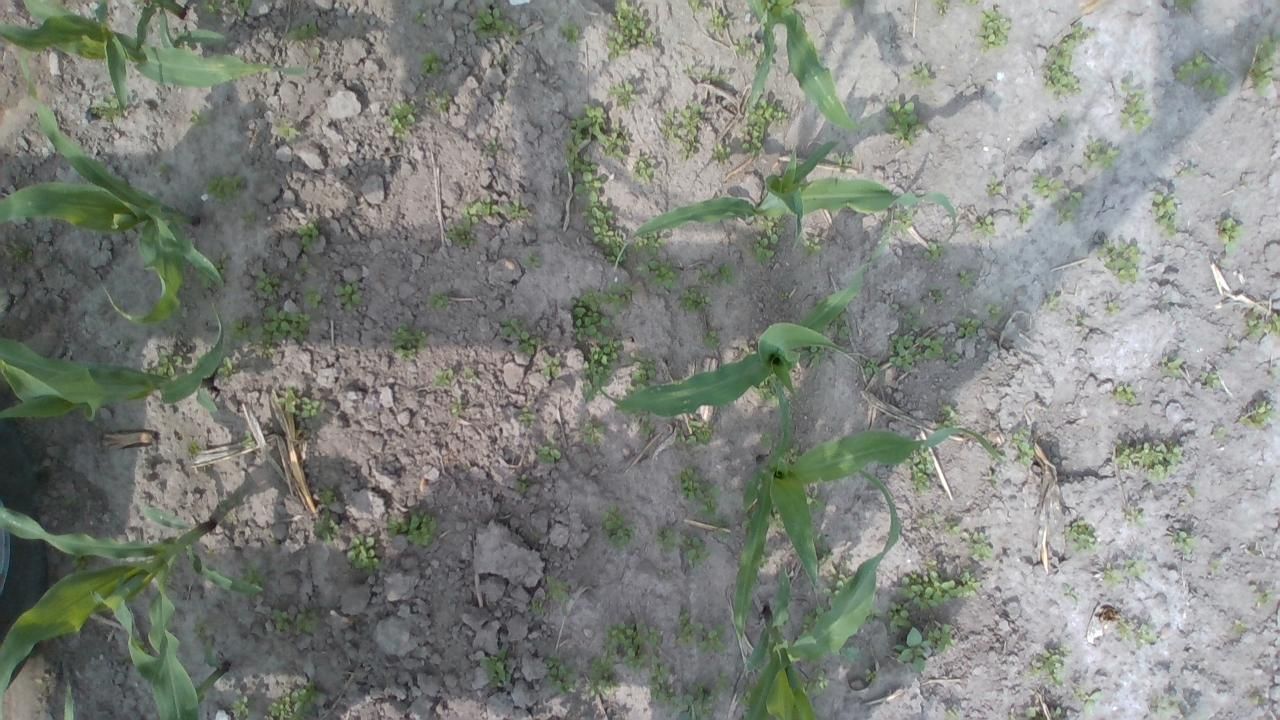Maize: (736, 378, 1006, 632), (0, 41, 226, 326), (596, 209, 897, 422), (0, 494, 268, 720), (736, 461, 903, 720), (615, 142, 957, 245), (1, 0, 308, 111), (0, 304, 233, 422), (746, 0, 864, 131), (128, 0, 186, 51)
Weeds: (573, 173, 629, 264), (226, 304, 312, 358), (567, 280, 640, 342), (1042, 20, 1096, 101), (560, 103, 606, 174), (603, 0, 656, 60), (1114, 438, 1182, 483), (604, 622, 661, 675), (896, 560, 955, 611), (741, 98, 788, 157), (887, 330, 945, 374), (674, 462, 722, 515), (662, 98, 704, 158), (1176, 51, 1230, 97), (1246, 27, 1280, 95), (582, 341, 621, 400), (676, 608, 726, 654), (685, 669, 730, 720), (880, 95, 924, 147), (1096, 236, 1140, 286), (461, 195, 529, 225), (1118, 80, 1154, 134), (272, 679, 318, 720), (904, 445, 940, 497), (597, 502, 634, 552), (470, 5, 520, 42), (894, 626, 932, 674), (498, 316, 540, 358), (202, 172, 245, 210), (976, 7, 1010, 55), (314, 490, 344, 544), (276, 384, 321, 420), (478, 643, 514, 688), (632, 256, 680, 289), (1028, 646, 1068, 685), (542, 652, 578, 694), (647, 665, 678, 713), (389, 322, 426, 362), (141, 347, 183, 382), (383, 99, 418, 139), (1150, 190, 1179, 238), (601, 120, 634, 162), (346, 534, 382, 572), (407, 510, 440, 548), (588, 656, 618, 696), (628, 354, 656, 395), (680, 536, 714, 569), (1238, 398, 1274, 429), (1082, 142, 1120, 171), (674, 419, 713, 447), (1029, 171, 1063, 203), (90, 94, 122, 128), (1118, 618, 1154, 648), (1218, 216, 1247, 253), (414, 47, 448, 78), (696, 261, 735, 288), (756, 212, 788, 244), (680, 284, 712, 316), (961, 530, 994, 561), (684, 64, 730, 86), (335, 279, 363, 314), (1011, 426, 1035, 466), (1066, 520, 1096, 552), (1247, 307, 1280, 336), (747, 378, 781, 406), (885, 599, 913, 633), (296, 216, 322, 252), (1055, 190, 1081, 224), (978, 432, 1008, 461), (608, 79, 638, 108), (227, 692, 258, 720), (238, 559, 270, 586), (824, 570, 854, 598), (287, 16, 319, 42), (446, 221, 475, 249), (631, 152, 656, 184), (384, 511, 408, 544), (294, 608, 322, 636), (800, 604, 826, 634), (956, 568, 980, 600), (935, 399, 958, 432), (580, 419, 608, 446), (254, 266, 281, 294), (814, 534, 836, 568), (751, 236, 775, 267), (194, 621, 220, 649), (796, 345, 826, 369), (1168, 530, 1198, 554), (826, 310, 849, 341), (546, 573, 571, 601), (920, 238, 946, 264), (804, 668, 830, 694), (1158, 354, 1186, 378), (892, 207, 914, 236), (957, 315, 983, 339), (1154, 696, 1180, 720), (736, 680, 758, 708), (656, 526, 676, 556), (912, 62, 934, 89), (916, 510, 944, 531), (974, 214, 998, 238), (426, 90, 450, 114), (903, 304, 926, 329), (558, 19, 580, 45), (1112, 384, 1137, 406), (538, 440, 560, 464), (540, 354, 562, 378), (1074, 686, 1100, 706), (766, 503, 786, 528), (270, 608, 290, 633), (1013, 202, 1035, 224), (1125, 558, 1147, 579), (700, 328, 721, 350), (708, 9, 728, 32), (199, 0, 226, 17), (217, 354, 236, 378), (426, 290, 448, 310), (732, 36, 752, 58), (193, 270, 214, 290), (840, 642, 859, 664), (756, 544, 772, 570), (782, 441, 800, 464), (799, 238, 822, 256), (804, 492, 828, 509), (860, 356, 880, 376), (984, 302, 1004, 322), (1126, 508, 1146, 528), (228, 0, 253, 16), (302, 287, 321, 308), (985, 174, 1003, 196), (1102, 566, 1120, 588), (433, 368, 455, 386), (760, 430, 777, 453), (1174, 0, 1200, 15), (958, 269, 977, 289), (514, 475, 532, 496), (929, 284, 946, 306), (1255, 590, 1274, 609), (862, 606, 882, 624), (832, 152, 852, 170), (276, 125, 300, 140), (1202, 369, 1222, 386), (862, 666, 879, 686), (712, 143, 732, 160), (521, 254, 545, 268), (210, 255, 227, 274), (639, 416, 656, 434), (218, 498, 236, 515), (238, 431, 256, 448), (14, 245, 31, 262), (185, 441, 202, 458), (928, 0, 948, 14), (710, 516, 730, 530), (686, 0, 706, 14), (70, 552, 84, 572), (62, 492, 83, 505), (1046, 294, 1062, 311), (192, 109, 210, 124), (1060, 581, 1074, 600), (530, 598, 546, 614), (944, 520, 960, 535), (242, 210, 257, 226), (153, 162, 170, 176), (128, 0, 146, 13), (944, 707, 962, 720), (756, 42, 767, 63), (1024, 706, 1040, 720), (294, 260, 310, 274), (740, 512, 754, 528), (519, 413, 536, 426), (451, 398, 463, 416), (1208, 559, 1222, 574), (484, 137, 498, 152), (752, 480, 763, 498), (945, 352, 959, 366), (988, 474, 1001, 489), (960, 0, 984, 8), (1056, 114, 1068, 130), (1213, 426, 1226, 440), (412, 10, 425, 24), (89, 421, 103, 434), (746, 662, 764, 672), (656, 568, 674, 578), (1232, 622, 1248, 633), (182, 272, 192, 288), (1050, 706, 1063, 718), (778, 291, 792, 302), (1185, 485, 1196, 498), (1074, 314, 1087, 325), (1106, 302, 1120, 312), (1251, 694, 1263, 705), (463, 366, 474, 378), (492, 54, 505, 64), (310, 46, 320, 57), (1180, 168, 1192, 177)
